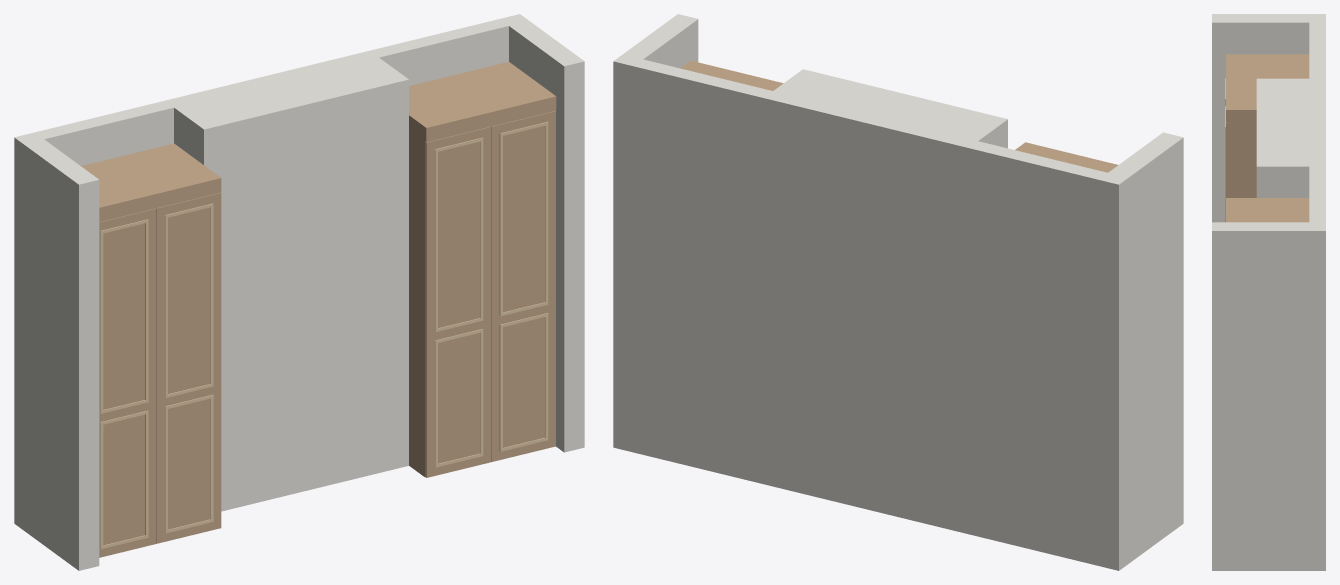
The model's file is alcove-wardrobes-east-finchley.glb.
The picture shows the model from 3 angles, left to right: view 1: azimuth 30°, elevation 25°; view 2: azimuth 150°, elevation 25°; view 3: azimuth 270°, elevation 25°; orthographic projection. The views are drawn at different scales.
Parts seen in each view (by area): view 1: Room: Chimney breast, Room: Left wall, Boiler wardrobe: Door, left (hinged left), Hanging wardrobe: Door, right (hinged right), Boiler wardrobe: Door, right (hinged right), Hanging wardrobe: Door, left (hinged left), Room: Back wall, Room: Right wall, Boiler wardrobe: Side, left, Boiler wardrobe: Top, Hanging wardrobe: Top, Boiler wardrobe: Top rail (+9 smaller); view 2: Room: Back wall, Room: Left wall, Room: Chimney breast, Room: Right wall, Hanging wardrobe: Top, Boiler wardrobe: Top; view 3: Room: Right wall, Room: Back wall, Room: Chimney breast, Room: Left wall, Hanging wardrobe: Top, Hanging wardrobe: Side, right, Boiler wardrobe: Top, Hanging wardrobe: Door, right (hinged right), Hanging wardrobe: Top rail.
Boxes of the visible parts, bbox=[...] form: Room: Chimney breast: bbox=[174, 57, 408, 511]; Room: Left wall: bbox=[23, 139, 99, 570]; Boiler wardrobe: Door, left (hinged left): bbox=[425, 126, 491, 477]; Hanging wardrobe: Door, right (hinged right): bbox=[156, 192, 221, 543]; Boiler wardrobe: Door, right (hinged right): bbox=[491, 111, 555, 461]; Hanging wardrobe: Door, left (hinged left): bbox=[99, 208, 156, 557]; Room: Back wall: bbox=[14, 14, 528, 529]; Room: Right wall: bbox=[509, 21, 584, 452]; Boiler wardrobe: Side, left: bbox=[409, 113, 426, 477]; Boiler wardrobe: Top: bbox=[409, 63, 551, 126]; Hanging wardrobe: Top: bbox=[82, 145, 216, 206]; Boiler wardrobe: Top rail: bbox=[425, 95, 556, 142]; Room: Back wall: bbox=[613, 54, 1128, 570]; Room: Left wall: bbox=[1108, 132, 1183, 563]; Room: Chimney breast: bbox=[773, 69, 1007, 148]; Room: Right wall: bbox=[623, 14, 698, 68]; Hanging wardrobe: Top: bbox=[1017, 144, 1116, 172]; Boiler wardrobe: Top: bbox=[683, 62, 781, 90]; Room: Right wall: bbox=[1212, 222, 1309, 570]; Room: Back wall: bbox=[1309, 14, 1325, 570]; Room: Chimney breast: bbox=[1256, 78, 1309, 197]; Room: Left wall: bbox=[1212, 14, 1309, 222]; Hanging wardrobe: Top: bbox=[1228, 55, 1306, 108]; Hanging wardrobe: Side, right: bbox=[1228, 109, 1256, 197]; Boiler wardrobe: Top: bbox=[1228, 199, 1306, 222]; Hanging wardrobe: Door, right (hinged right): bbox=[1226, 122, 1228, 197]; Hanging wardrobe: Top rail: bbox=[1226, 54, 1228, 122].
Size of the model in its own units: 3.7 by 2.7 by 0.82.
